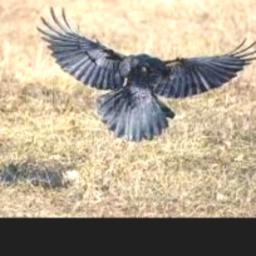Crow: (34, 6, 256, 141)
